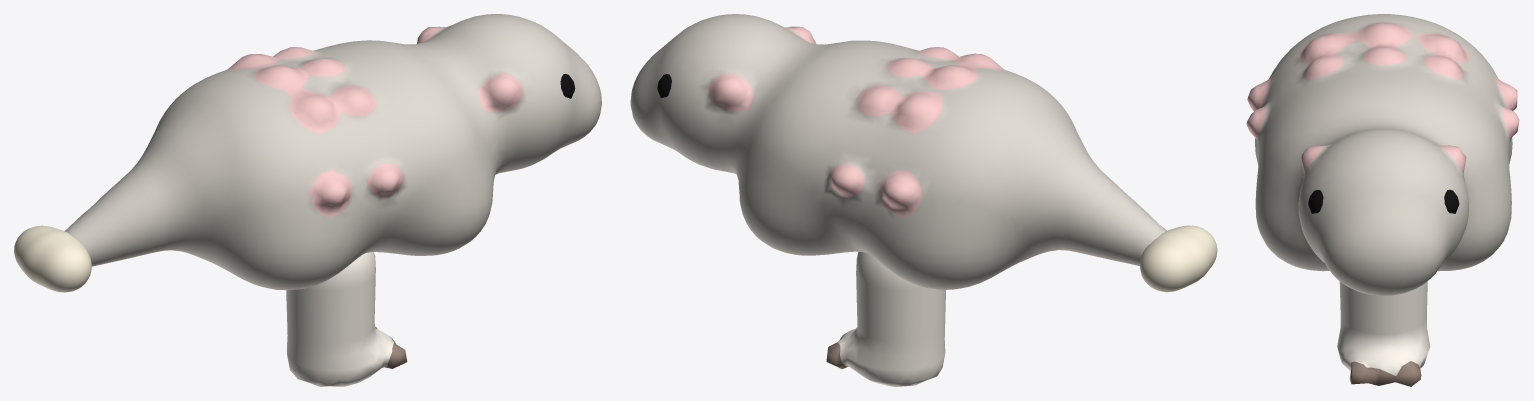
File: ankylosaurus_baby.glb
3 views of the same model, side by side, from view 1: azimuth 30°, elevation 25°; view 2: azimuth 150°, elevation 25°; view 3: azimuth 270°, elevation 25° (orthographic).
Visible parts, largest first — view 1: body, leg, horn; view 2: body, leg, horn; view 3: body, leg, eye.
Boxes of the visible parts, x1,y1,x2,y2 form: body: (65, 14, 601, 290); leg: (286, 252, 407, 386); horn: (14, 225, 91, 292); body: (630, 14, 1166, 289); leg: (826, 252, 945, 386); horn: (1140, 225, 1217, 292); body: (1246, 14, 1519, 295); leg: (1337, 281, 1430, 386); eye: (1308, 189, 1459, 213).
Size of the model in its own units: 2.87 by 1.53 by 1.22.
